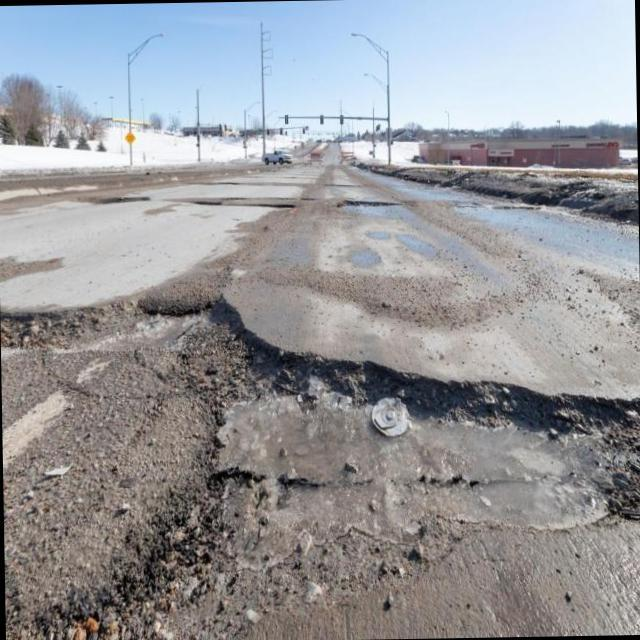Pothole: (68, 301, 640, 638)
